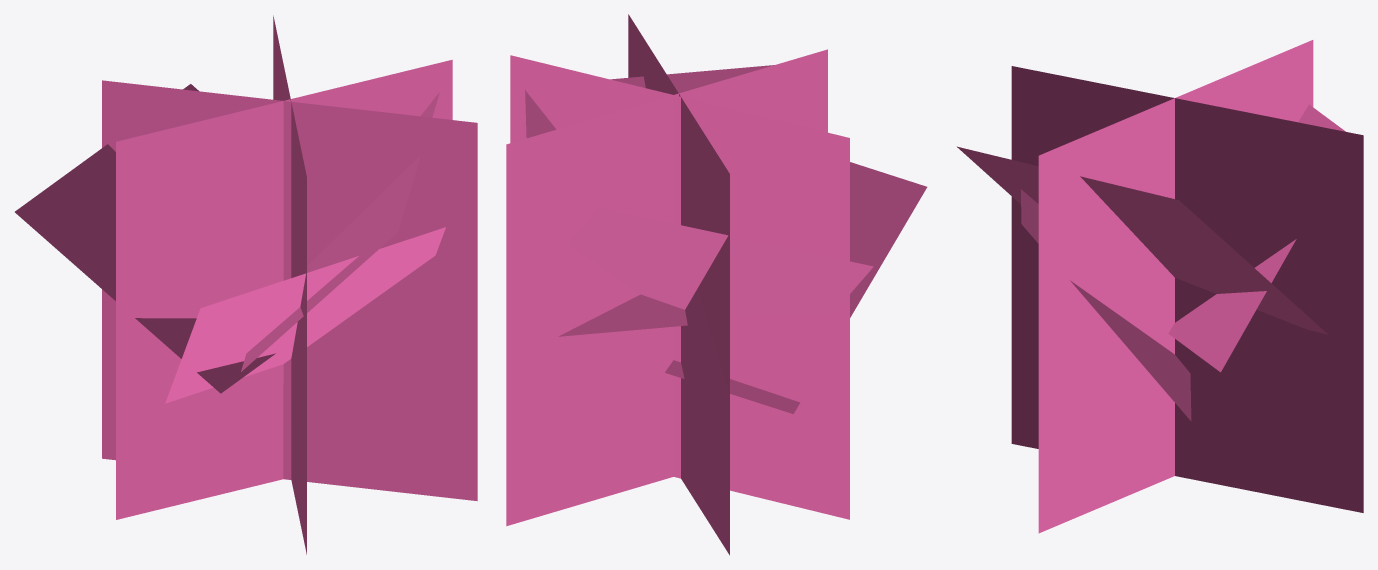
Rendered from cotl_bush_1.FBX.
3 views of the same model, side by side, from view 1: azimuth 30°, elevation 25°; view 2: azimuth 150°, elevation 25°; view 3: azimuth 270°, elevation 25° (orthographic).
Parts seen in each view (by area): view 1: cotf_bush_1; view 2: cotf_bush_1; view 3: cotf_bush_1.
Part boxes in pixels (x1,y1,x2,y2): cotf_bush_1: (15, 15, 477, 554); cotf_bush_1: (506, 14, 927, 555); cotf_bush_1: (957, 40, 1363, 533).
Size of the model in its own units: 1.83 by 1.66 by 1.62.
